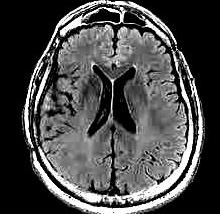Normal_Brain: (1, 1, 220, 214)
